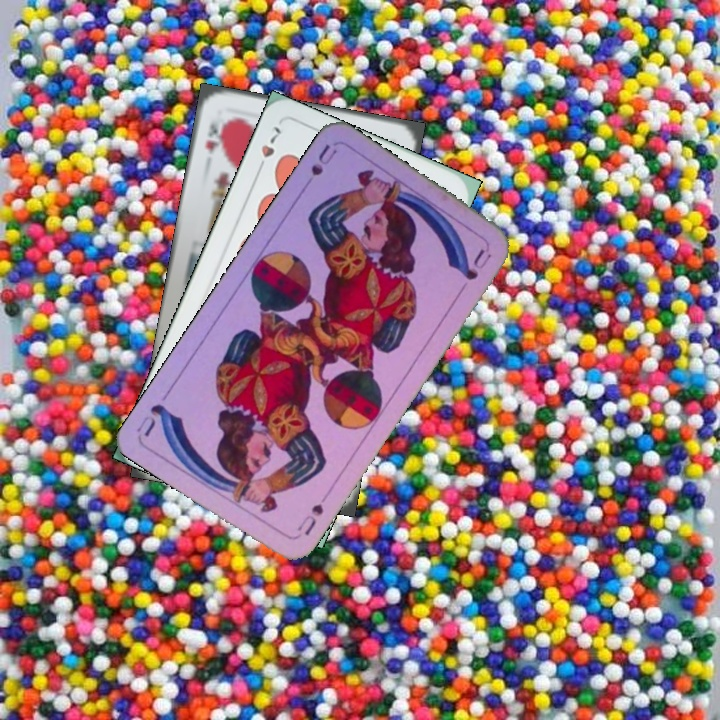H7: (252, 122, 284, 177)
HK: (201, 115, 228, 156)
SU: (297, 140, 340, 195), (292, 499, 327, 541)
